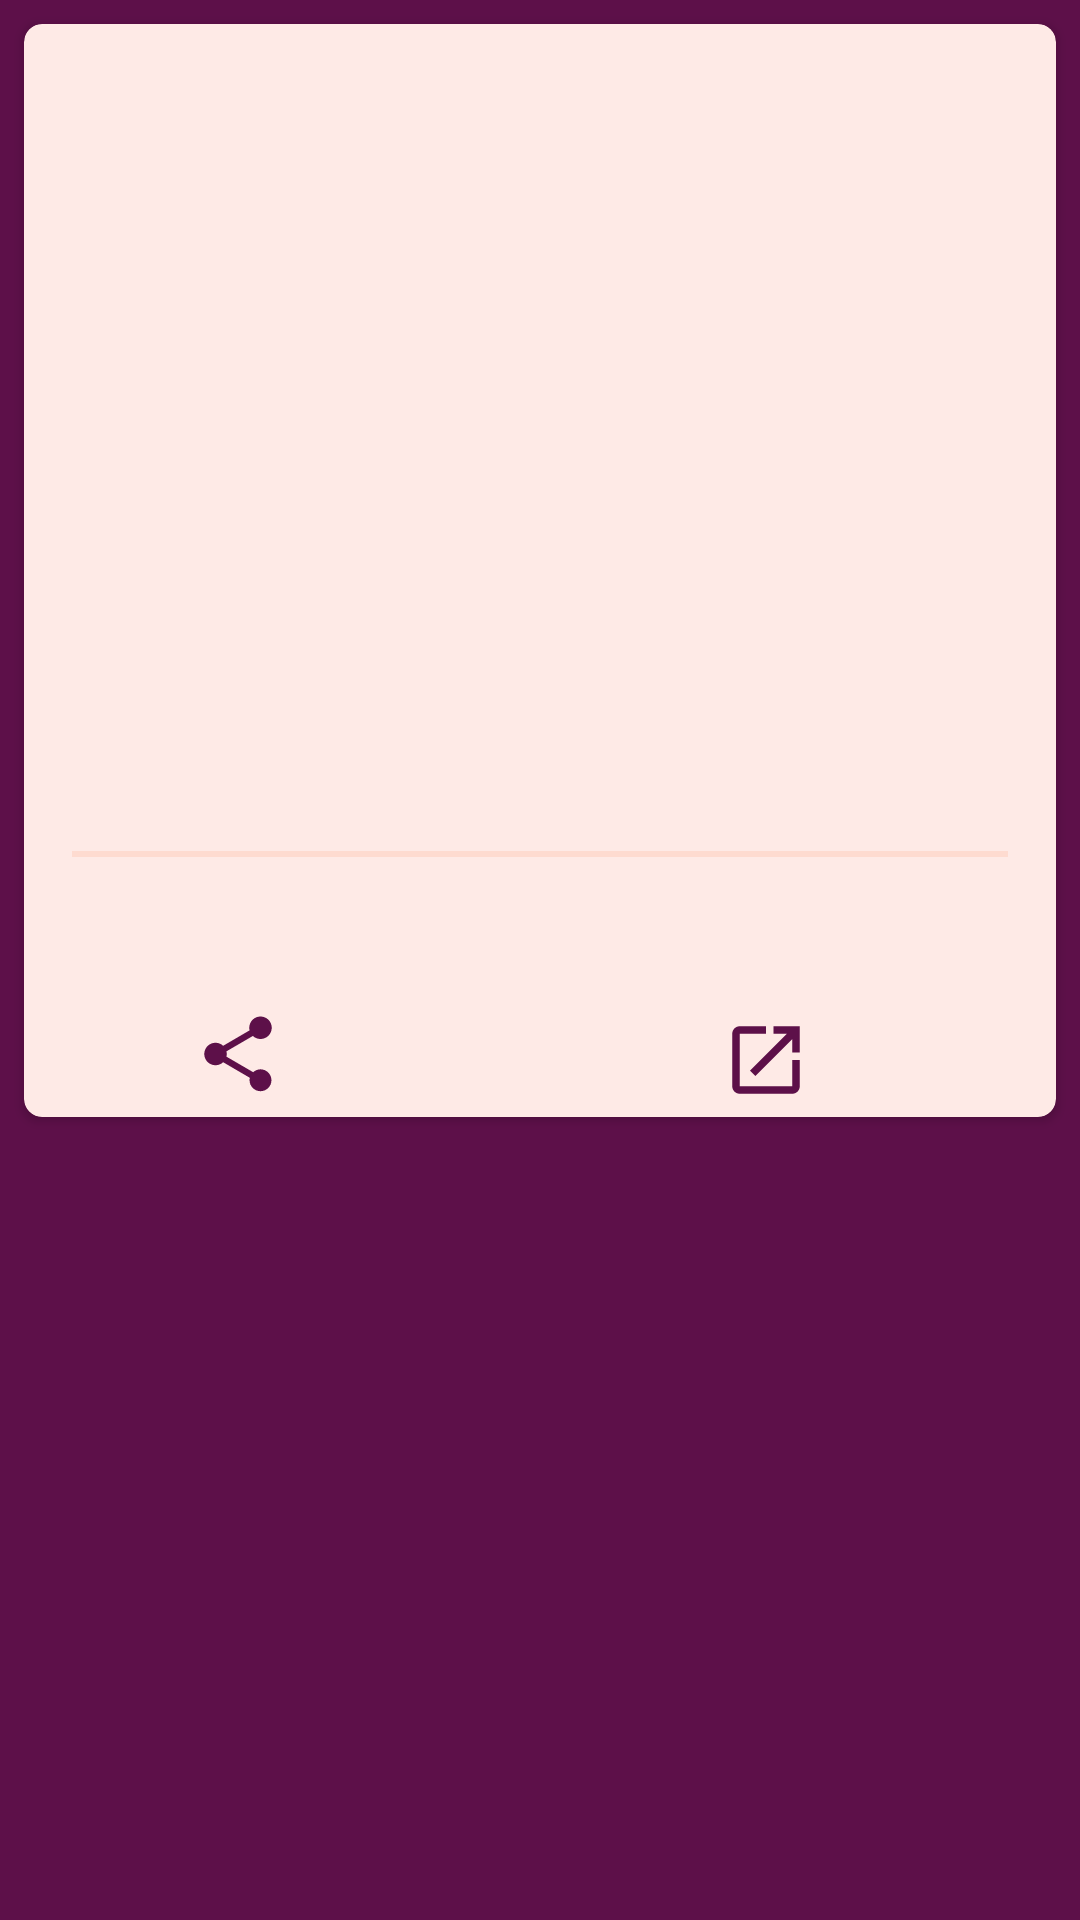

Icons on this 1080px×1920px Android screen, each with its box as (x1, y1, x2, y2):
open: (732, 1026, 800, 1094)
share: (204, 1016, 272, 1092)
